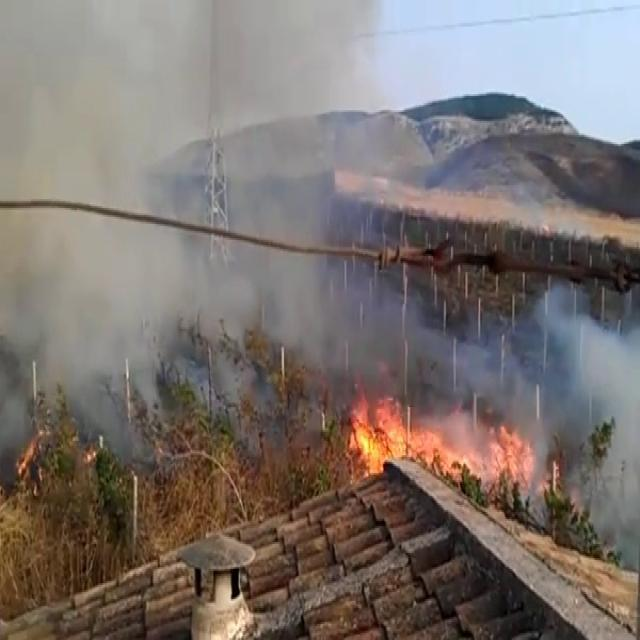Fire: (341, 382, 540, 492)
Smoke: (1, 0, 428, 448), (523, 248, 640, 579)
